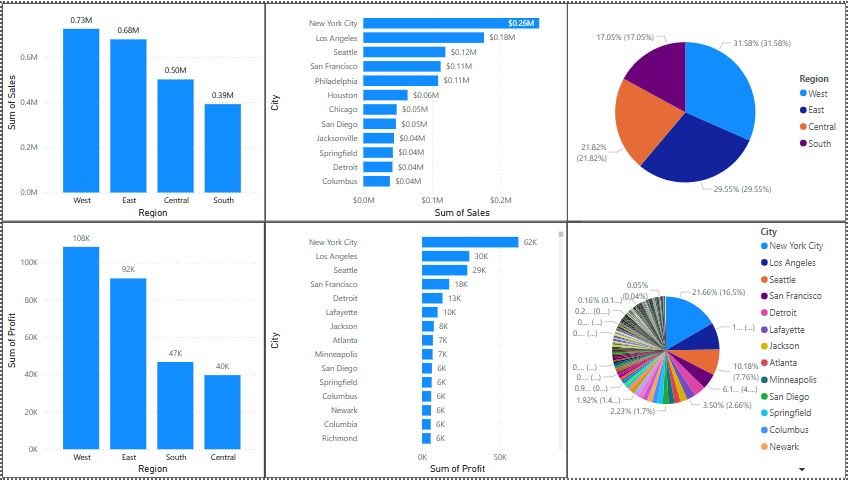

The page's visual inventory and layout, read from the dashboard file:
{"tool":"powerbi","page":{"name":"Page 3","canvas":[1280,720],"ordinal":2},"visuals":[{"type":"columnChart","fields":{"Category":["Orders.Region"],"Y":["Sum(Orders.Sales)"]},"box":[0,0,398.9,331.2],"z":0},{"type":"columnChart","fields":{"Category":["Orders.Region"],"Y":["Sum(Orders.Profit)"]},"box":[0,338.4,387.4,381.6],"z":1},{"type":"barChart","fields":{"Category":["Orders.City"],"Y":["Sum(Orders.Profit)"]},"box":[398.9,331.2,442.1,381.6],"z":2},{"type":"barChart","fields":{"Y":["Sum(Orders.Sales)"],"Category":["Orders.City"]},"box":[398.9,0,479.5,331.2],"z":3},{"type":"pieChart","fields":{"Y":["Sum(Orders.Profit)"],"Category":["Orders.City"]},"box":[856.8,331.2,423.4,388.8],"z":4},{"type":"pieChart","fields":{"Y":["Sum(Orders.Sales)"],"Category":["Orders.Region"]},"box":[856.8,0,423.4,331.2],"z":5},{"type":"textbox","box":[99.4,99.4,301,24.5],"z":6}]}

Visuals, with their boxes in screenshot pixels (x1, y1, x2, y2), scaled from the page's 1280x720 canvas onto the 849x481 screenshot:
columnChart - Orders.Region x Sum(Orders.Sales): 0,0,265,221
columnChart - Orders.Region x Sum(Orders.Profit): 0,226,257,480
barChart - Orders.City x Sum(Orders.Profit): 265,221,558,476
barChart - Sum(Orders.Sales) x Orders.City: 265,0,583,221
pieChart - Sum(Orders.Profit) x Orders.City: 568,221,848,480
pieChart - Sum(Orders.Sales) x Orders.Region: 568,0,848,221
textbox: 66,66,266,83
